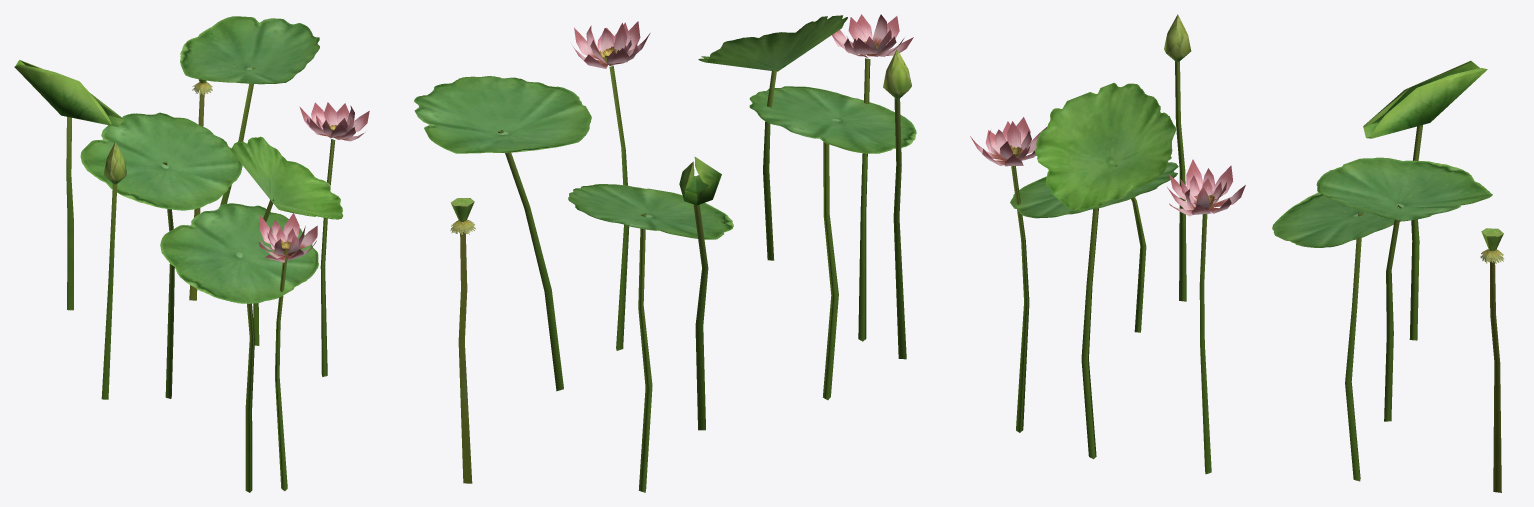
File: Scene_Grass_HeHua_3.FBX
3 views of the same model, side by side, from view 1: azimuth 30°, elevation 25°; view 2: azimuth 150°, elevation 25°; view 3: azimuth 270°, elevation 25° (orthographic). The views are drawn at different scales.
Visible parts, largest first — view 1: Scene_Grass_HeHua_2; view 2: Scene_Grass_HeHua_2; view 3: Scene_Grass_HeHua_2.
Part boxes in pixels (<box>): Scene_Grass_HeHua_2: <box>14,16,369,492</box>; Scene_Grass_HeHua_2: <box>414,14,916,492</box>; Scene_Grass_HeHua_2: <box>970,14,1503,492</box>.
Bounding box in the file's own units: 191 × 191 × 243.
